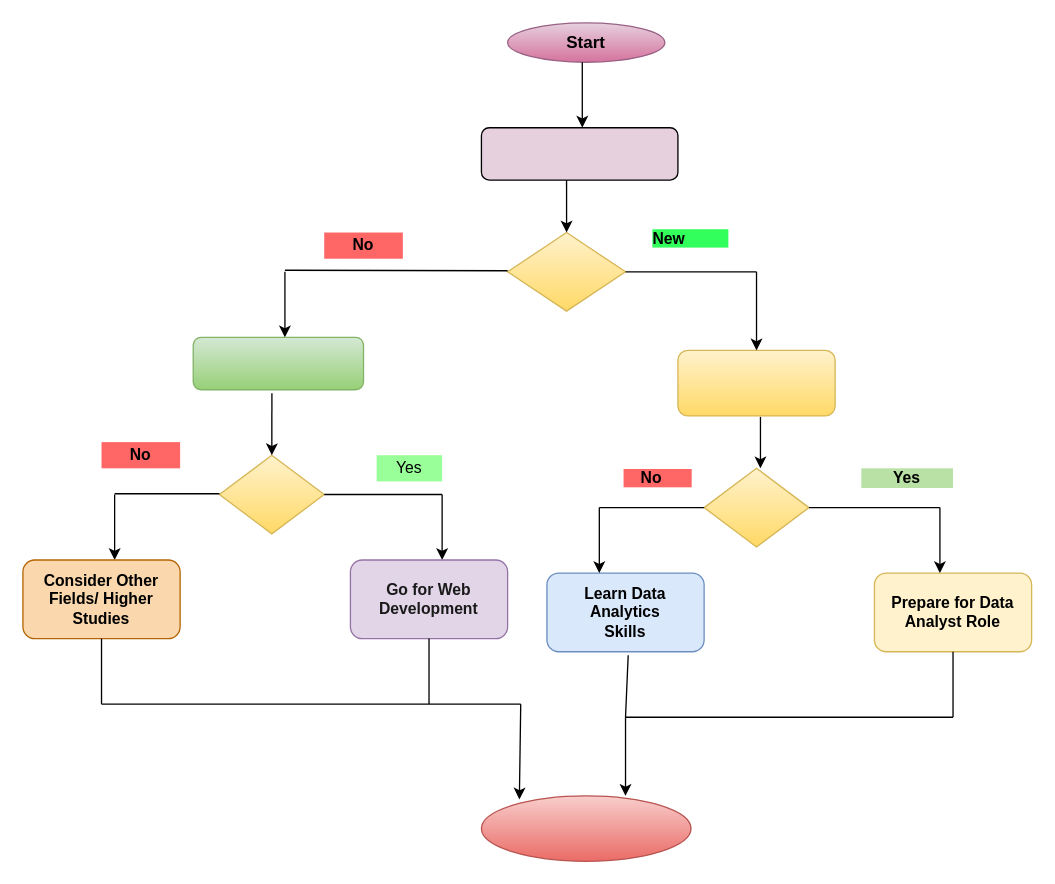
Some shapes in this 1055 by 884 pixel diagram are drawn without their labels. Each missing label, with the centre of its shape:
"Are you interested in Data & Numbers?" belongs at pixel 579 153.
"Are you interested in Desiging & websites?" belongs at pixel 278 363.
"Do you Know Excel / SQL /Python basic?" belongs at pixel 756 382.
"End" belongs at pixel 585 828.
